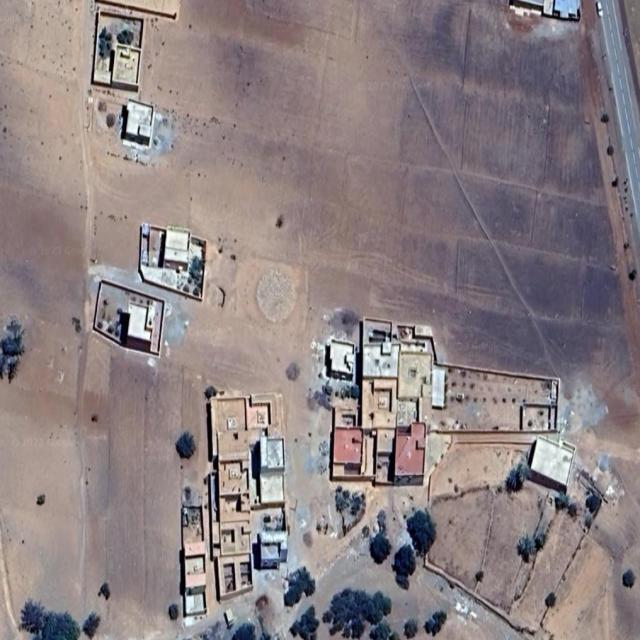Countryside roofs: (199, 448, 270, 602), (526, 440, 602, 508), (196, 380, 253, 462), (395, 344, 454, 410), (391, 422, 436, 492), (122, 291, 169, 347), (325, 408, 364, 474), (160, 220, 197, 280), (102, 45, 148, 92), (253, 527, 300, 572), (122, 99, 158, 157), (325, 334, 359, 389), (174, 540, 208, 595), (256, 436, 295, 480)
